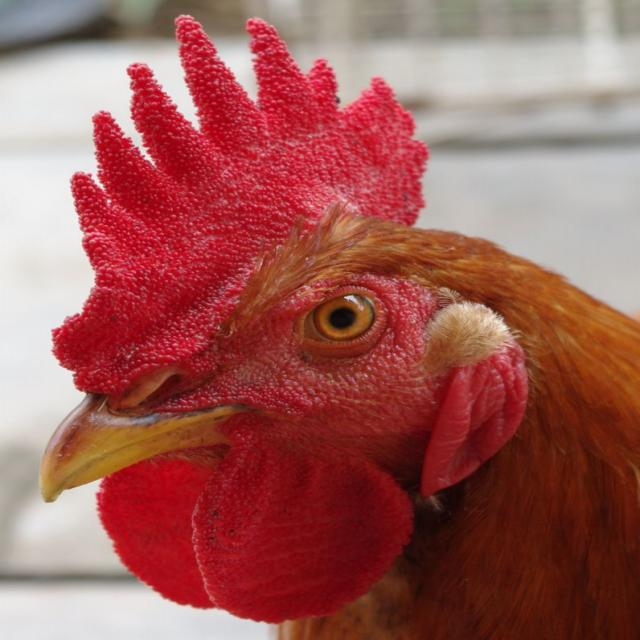Chicken: (11, 35, 619, 634)
